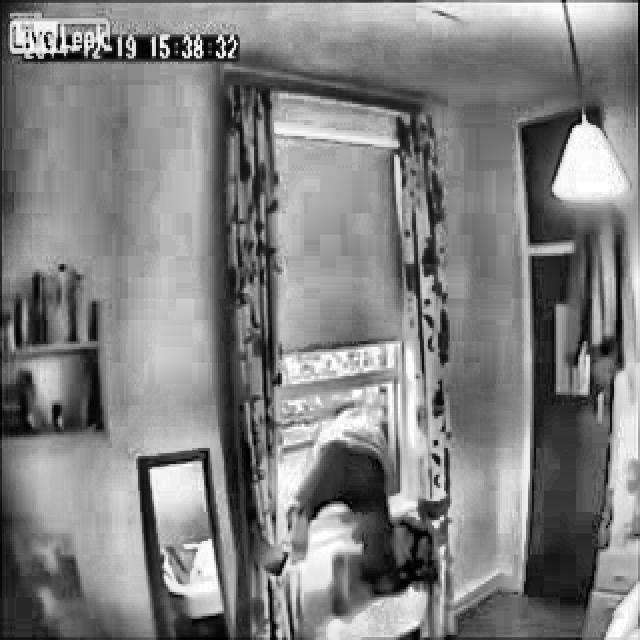burglary: (272, 332, 404, 640)
